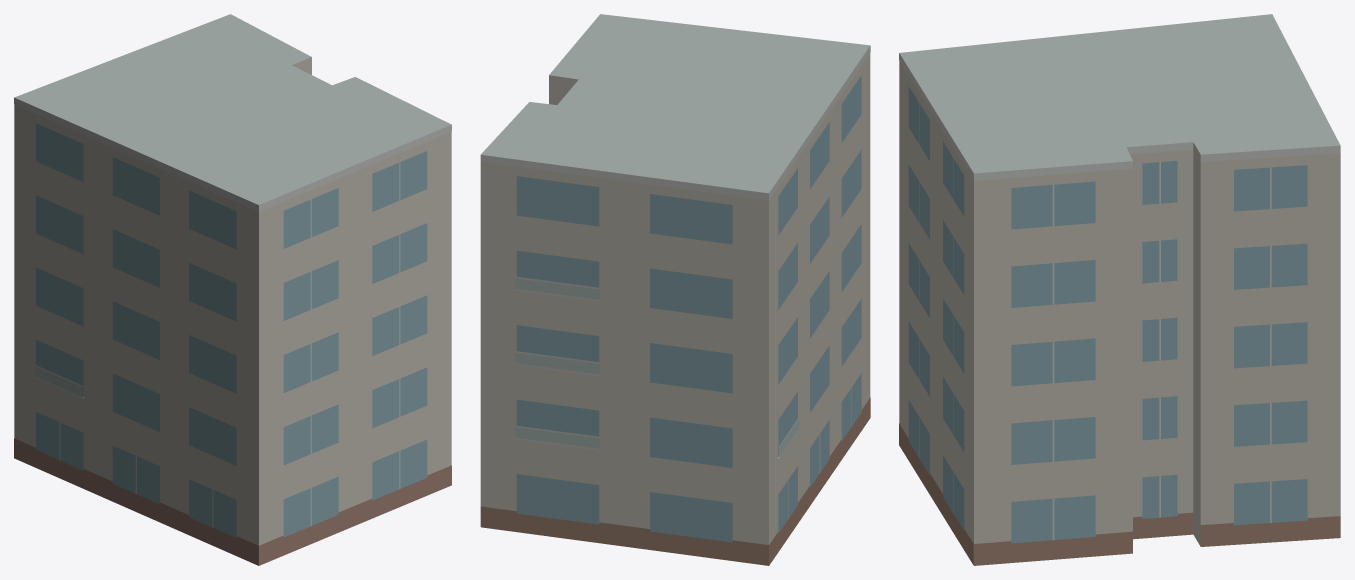
The model's file is survey-upis-33033219.glb.
3 renders of one model, left to right at view 1: azimuth 30°, elevation 25°; view 2: azimuth 150°, elevation 25°; view 3: azimuth 270°, elevation 25°, orthographic. The views are drawn at different scales.
Parts seen in each view (by area): view 1: survey-upis-33033219.tmp; view 2: survey-upis-33033219.tmp; view 3: survey-upis-33033219.tmp.
Boxes of the visible parts, x1,y1,x2,y2 form: survey-upis-33033219.tmp: (14, 14, 451, 565); survey-upis-33033219.tmp: (480, 14, 870, 565); survey-upis-33033219.tmp: (899, 14, 1340, 565).
Size of the model in its own units: 11.17 by 12.8 by 13.06.
